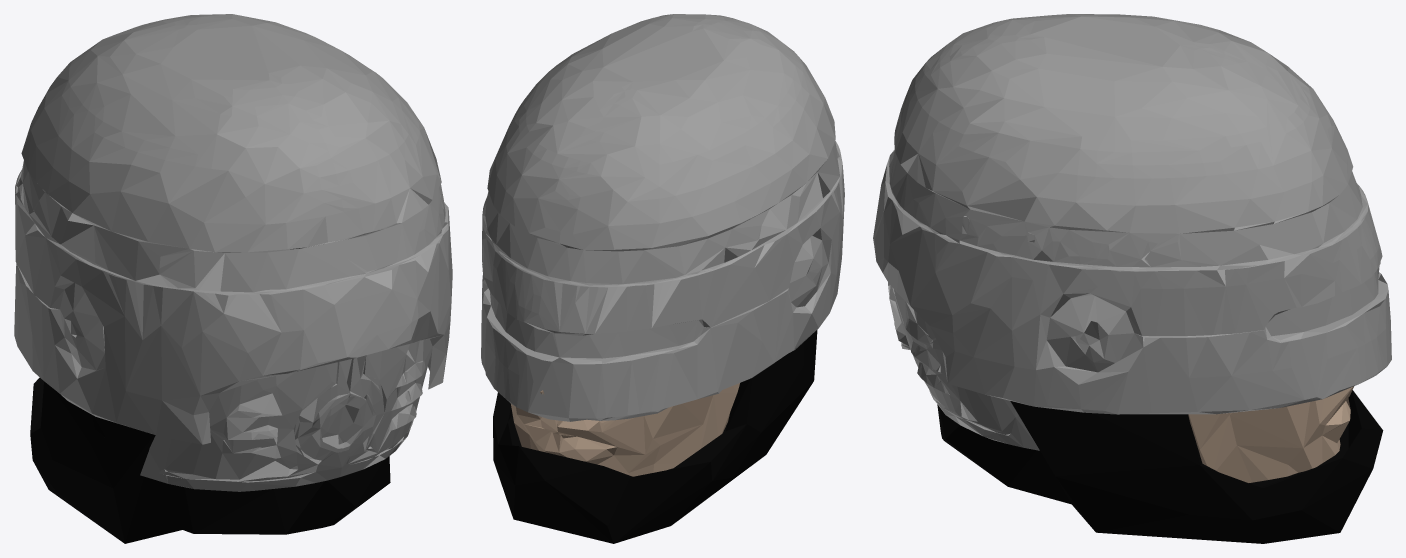
The model's file is head.obj.
3 views of the same model, side by side, from view 1: azimuth 30°, elevation 25°; view 2: azimuth 150°, elevation 25°; view 3: azimuth 270°, elevation 25° (orthographic). The views are drawn at different scales.
Parts seen in each view (by area): view 1: polySurface57polySurface61, polySurface57polySurface60; view 2: polySurface57polySurface61, polySurface57polySurface60, polySurface57polySurface59, polySurface58polySurface57; view 3: polySurface57polySurface61, polySurface57polySurface60, polySurface58polySurface57.
Boxes of the visible parts, x1=… form: polySurface57polySurface61: x1=14, y1=14, x2=452, y2=491; polySurface57polySurface60: x1=30, y1=377, x2=390, y2=543; polySurface57polySurface61: x1=481, y1=14, x2=844, y2=421; polySurface57polySurface60: x1=493, y1=330, x2=817, y2=543; polySurface57polySurface59: x1=542, y1=383, x2=739, y2=476; polySurface58polySurface57: x1=510, y1=391, x2=562, y2=455; polySurface57polySurface61: x1=873, y1=14, x2=1391, y2=450; polySurface57polySurface60: x1=937, y1=390, x2=1383, y2=543; polySurface58polySurface57: x1=1188, y1=386, x2=1353, y2=482.
Size of the model in its own units: 1.7 by 2.31 by 2.33.
